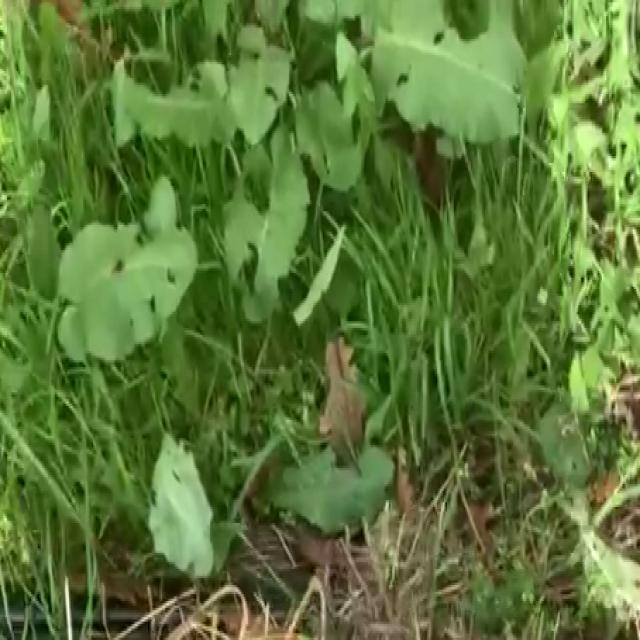organic waste: (118, 0, 520, 266), (73, 385, 406, 601), (41, 190, 245, 420)
